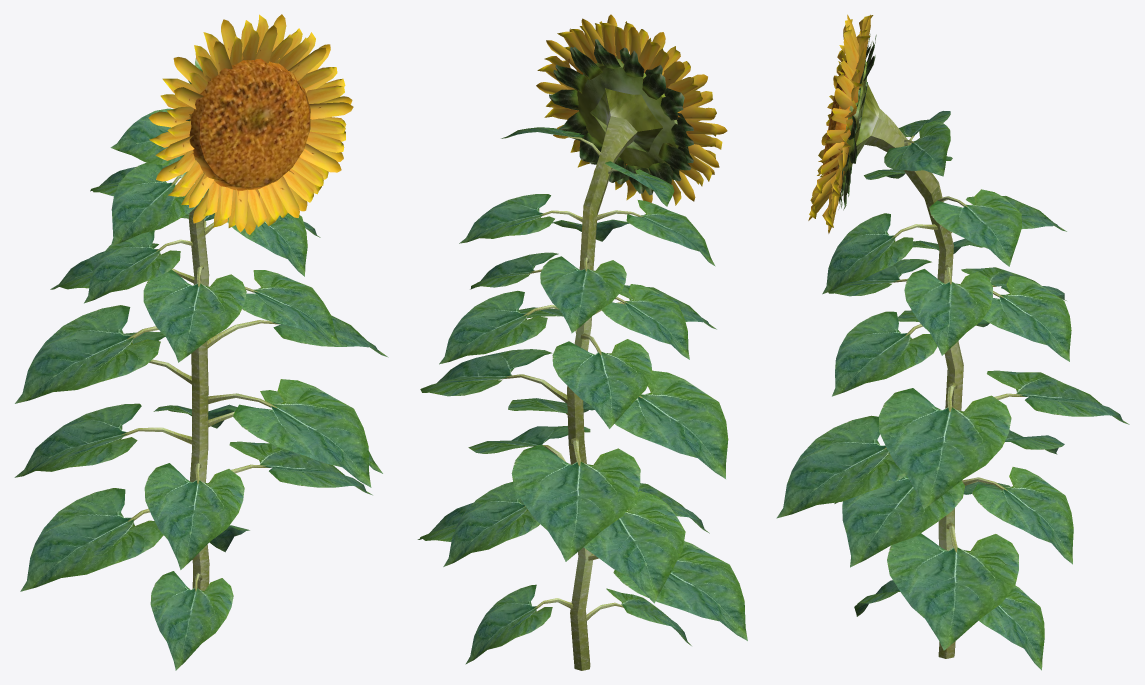
Rendered from flower_sunflower.glb.
The picture shows the model from 3 angles, left to right: view 1: azimuth 30°, elevation 25°; view 2: azimuth 150°, elevation 25°; view 3: azimuth 270°, elevation 25°; orthographic projection. The views are drawn at different scales.
Parts seen in each view (by area): view 1: flower_sunflower; view 2: flower_sunflower; view 3: flower_sunflower.
Boxes of the visible parts, x1,y1,x2,y2 form: flower_sunflower: [14, 14, 388, 670]; flower_sunflower: [417, 14, 747, 670]; flower_sunflower: [776, 14, 1129, 670].
Bounding box in the file's own units: 0.6657 × 1.15 × 0.5828.
Materials: 1 (1 with a texture image).
